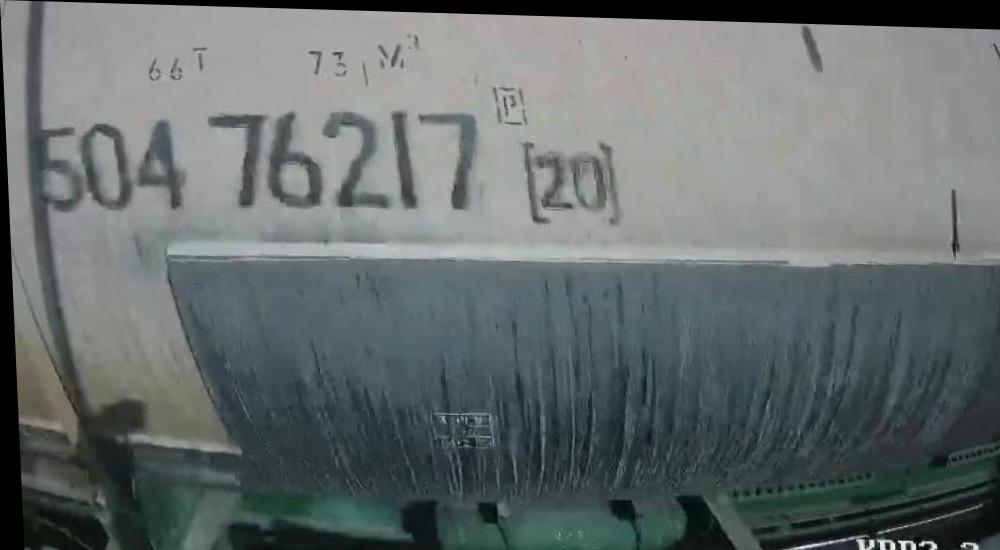Wagon-number: (29, 93, 488, 226)
